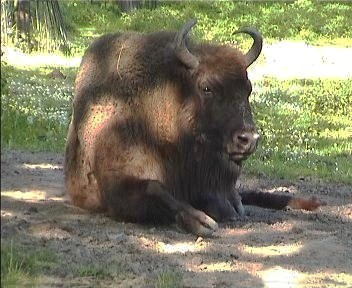zubr: (70, 21, 325, 259)
